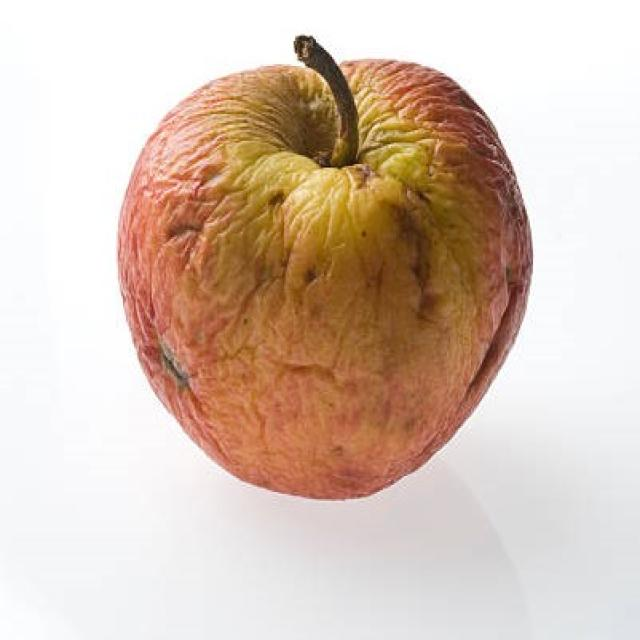overripe: (110, 50, 538, 503)
